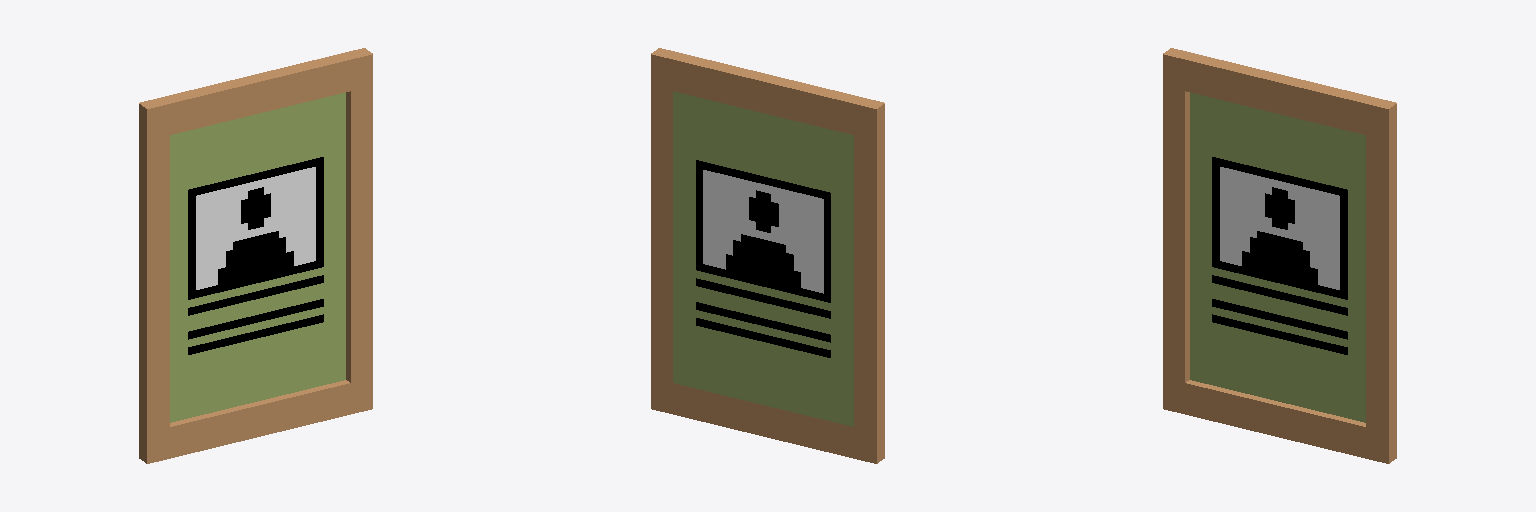
3 renders of one model, left to right at view 1: azimuth 30°, elevation 25°; view 2: azimuth 150°, elevation 25°; view 3: azimuth 330°, elevation 25°, orthographic.
Parts seen in each view (by area): view 1: object 1; view 2: object 1; view 3: object 1.
Boxes of the visible parts, <box> form: object 1: <box>139,48,372,463</box>; object 1: <box>651,48,884,463</box>; object 1: <box>1163,48,1396,463</box>.
Bounding box in the file's own units: 3 × 4.5 × 0.2.
1 materials, 1 textured.